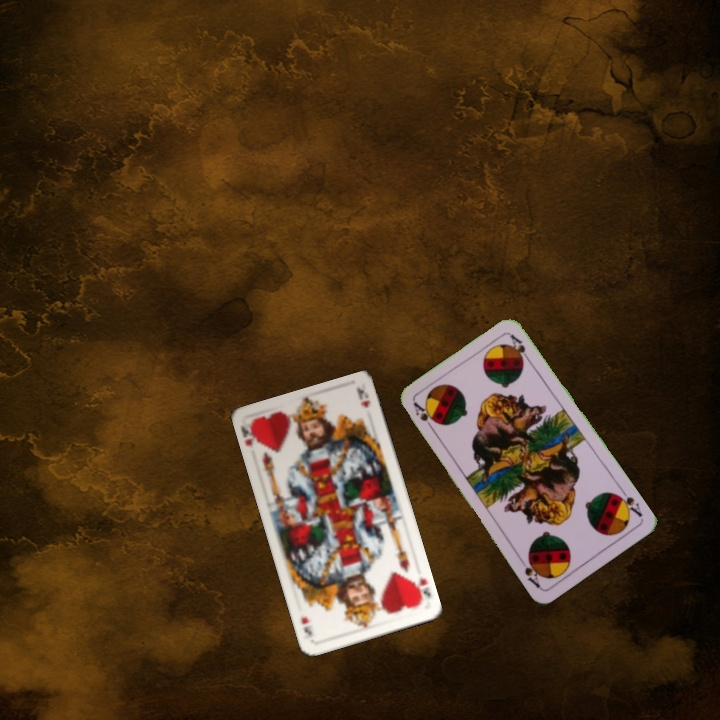HK: (409, 572, 433, 607), (237, 419, 263, 449)
SA: (611, 484, 645, 519), (409, 398, 438, 434)
